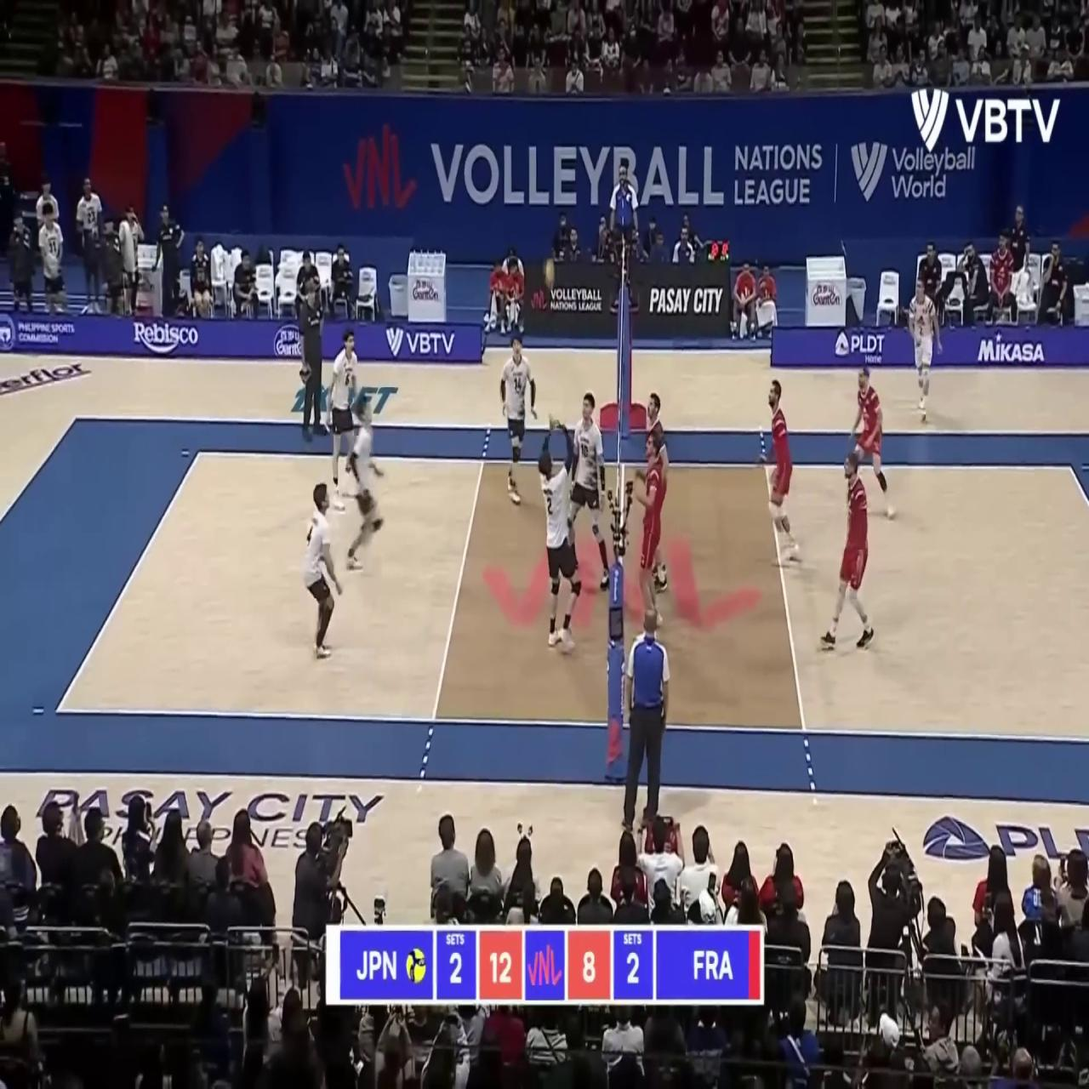ball: (544, 259, 555, 284)
